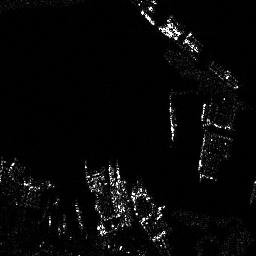ship: (211, 57, 240, 84), (167, 106, 179, 140)
